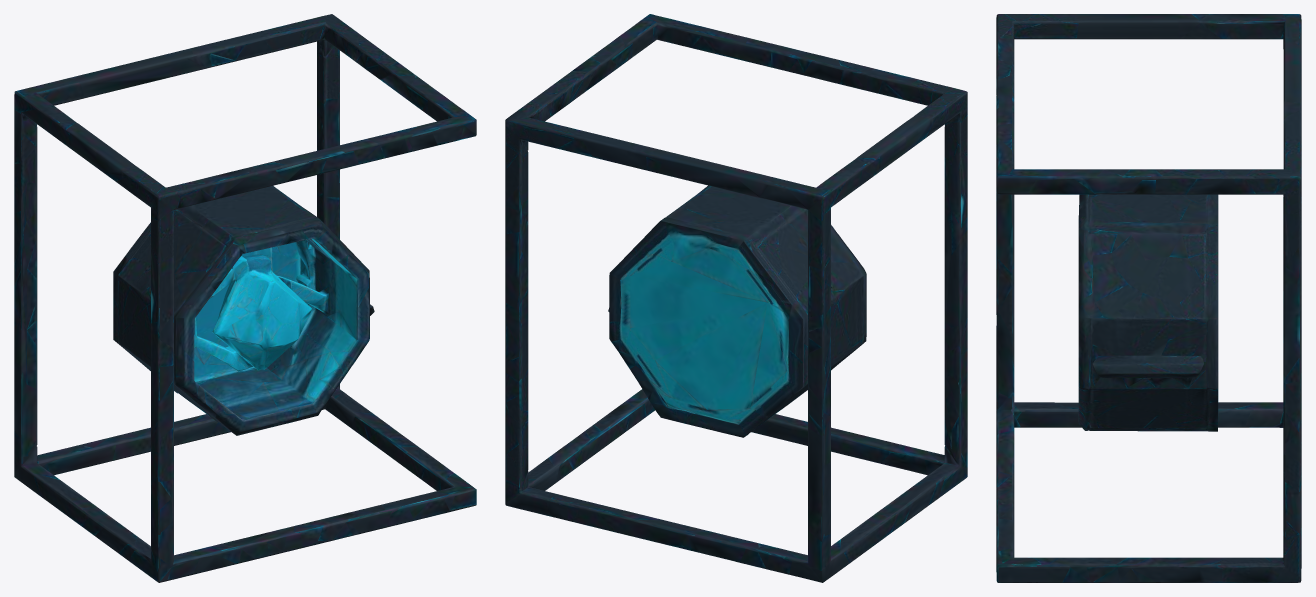
The model's file is pickup-shield.glb.
The picture shows the model from 3 angles, left to right: view 1: azimuth 30°, elevation 25°; view 2: azimuth 150°, elevation 25°; view 3: azimuth 270°, elevation 25°; orthographic projection. The views are drawn at different scales.
Bounding box in the file's own units: 1.64 × 1.9 × 1.29.
1 material, 1 textured.
